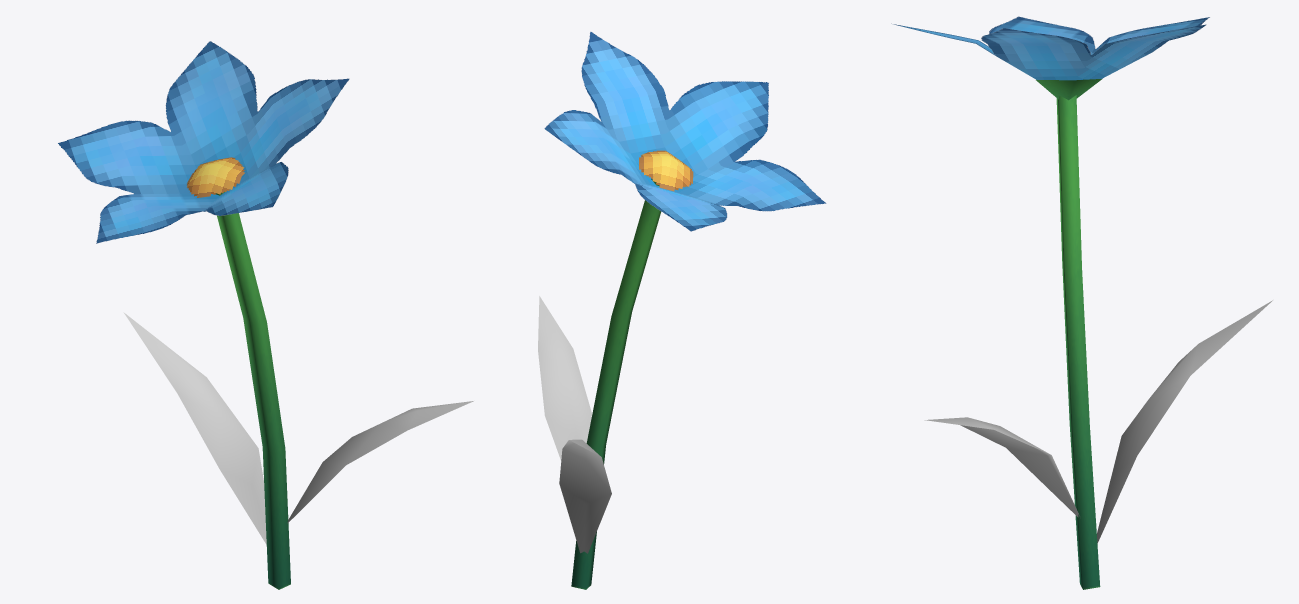
File: Flower_Balloon_2.fbx
3 renders of one model, left to right at view 1: azimuth 30°, elevation 25°; view 2: azimuth 150°, elevation 25°; view 3: azimuth 270°, elevation 25°, orthographic. The views are drawn at different scales.
Parts seen in each view (by area): view 1: Cone.113, Cube.130, object6.083, object6.084, Cone.112; view 2: Cone.113, Cube.130, object6.084, object6.083, Cone.112; view 3: Cube.130, Cone.113, object6.083, object6.084, Cone.114.
Boxes of the visible parts, <box> form: Cone.113: <box>58,41,349,243</box>; Cube.130: <box>215,191,290,589</box>; object6.083: <box>123,312,266,544</box>; object6.084: <box>287,401,473,523</box>; Cone.112: <box>187,157,244,197</box>; Cone.113: <box>544,31,826,231</box>; Cube.130: <box>571,178,660,589</box>; object6.084: <box>538,296,591,460</box>; object6.083: <box>559,439,611,553</box>; Cone.112: <box>639,150,693,191</box>; Cube.130: <box>1056,95,1100,589</box>; Cone.113: <box>891,16,1209,80</box>; object6.083: <box>1097,300,1272,543</box>; object6.084: <box>924,417,1079,517</box>; Cone.114: <box>1036,78,1102,100</box>.
Size of the model in its own units: 45.43 by 65.14 by 39.92.
